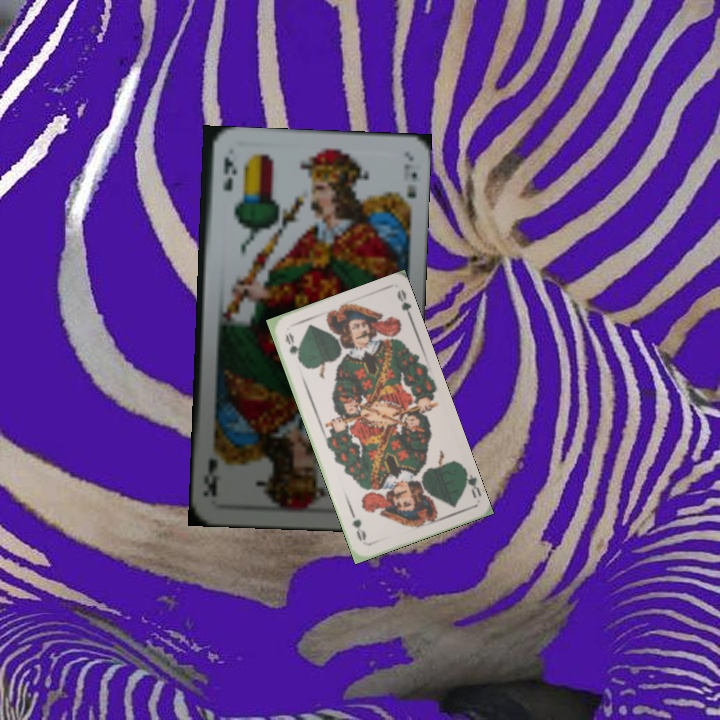EK: (219, 152, 236, 193)
GO: (458, 464, 483, 501), (281, 328, 305, 366)
